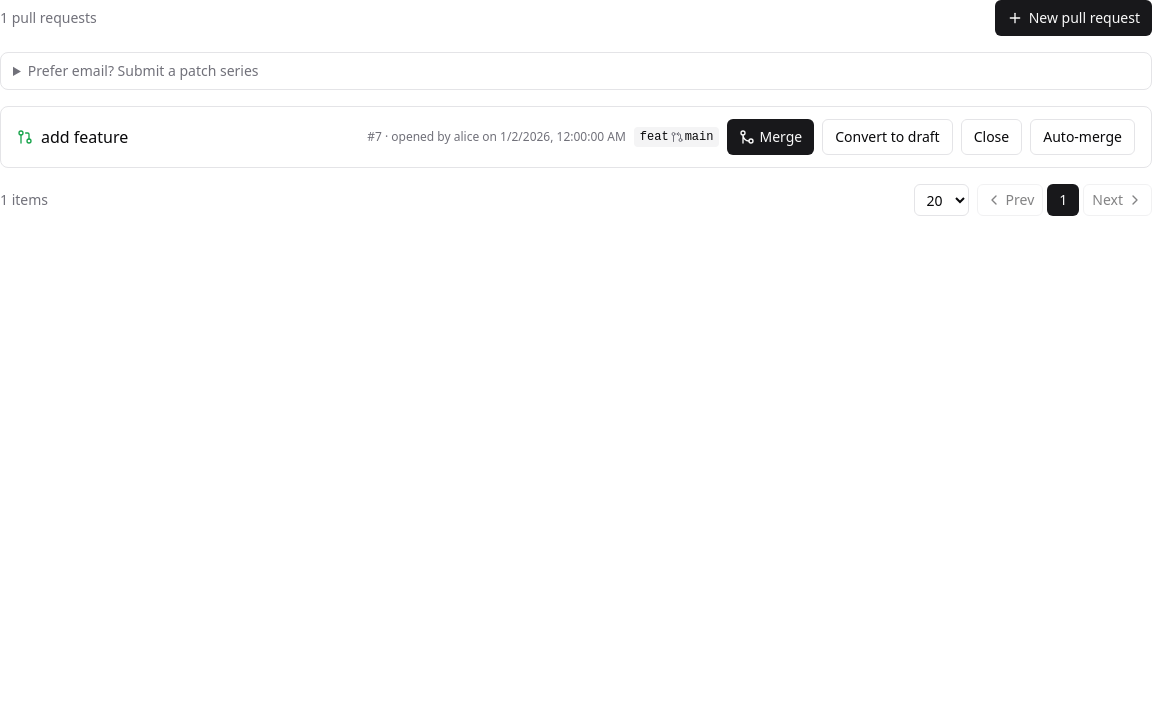
Test: RepoPulls detail › 展开 PR 不应抛错
Expected: the text "add feature" is shown, [41,125,128,149]
Click the button "add feature" at [85, 137], box [17,125,355,149]
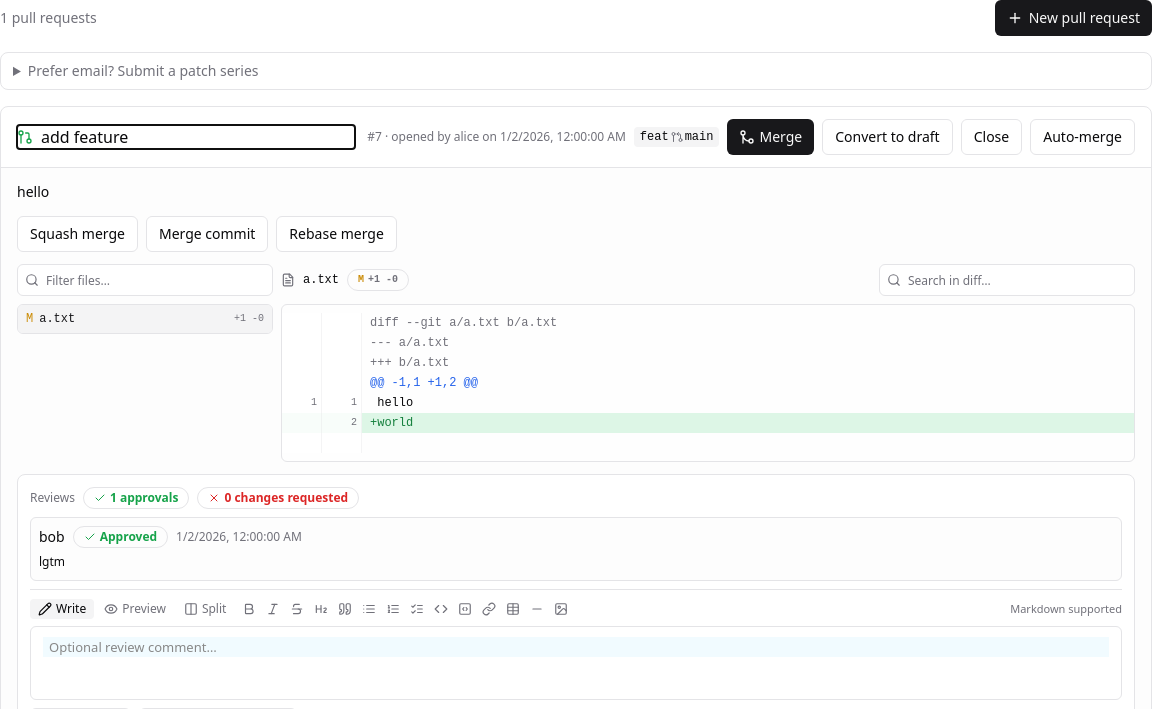
Expected: the text "Reviews" is shown, [30,490,75,506]
Expected: the 1st text "hello" is shown, [17,182,49,201]
